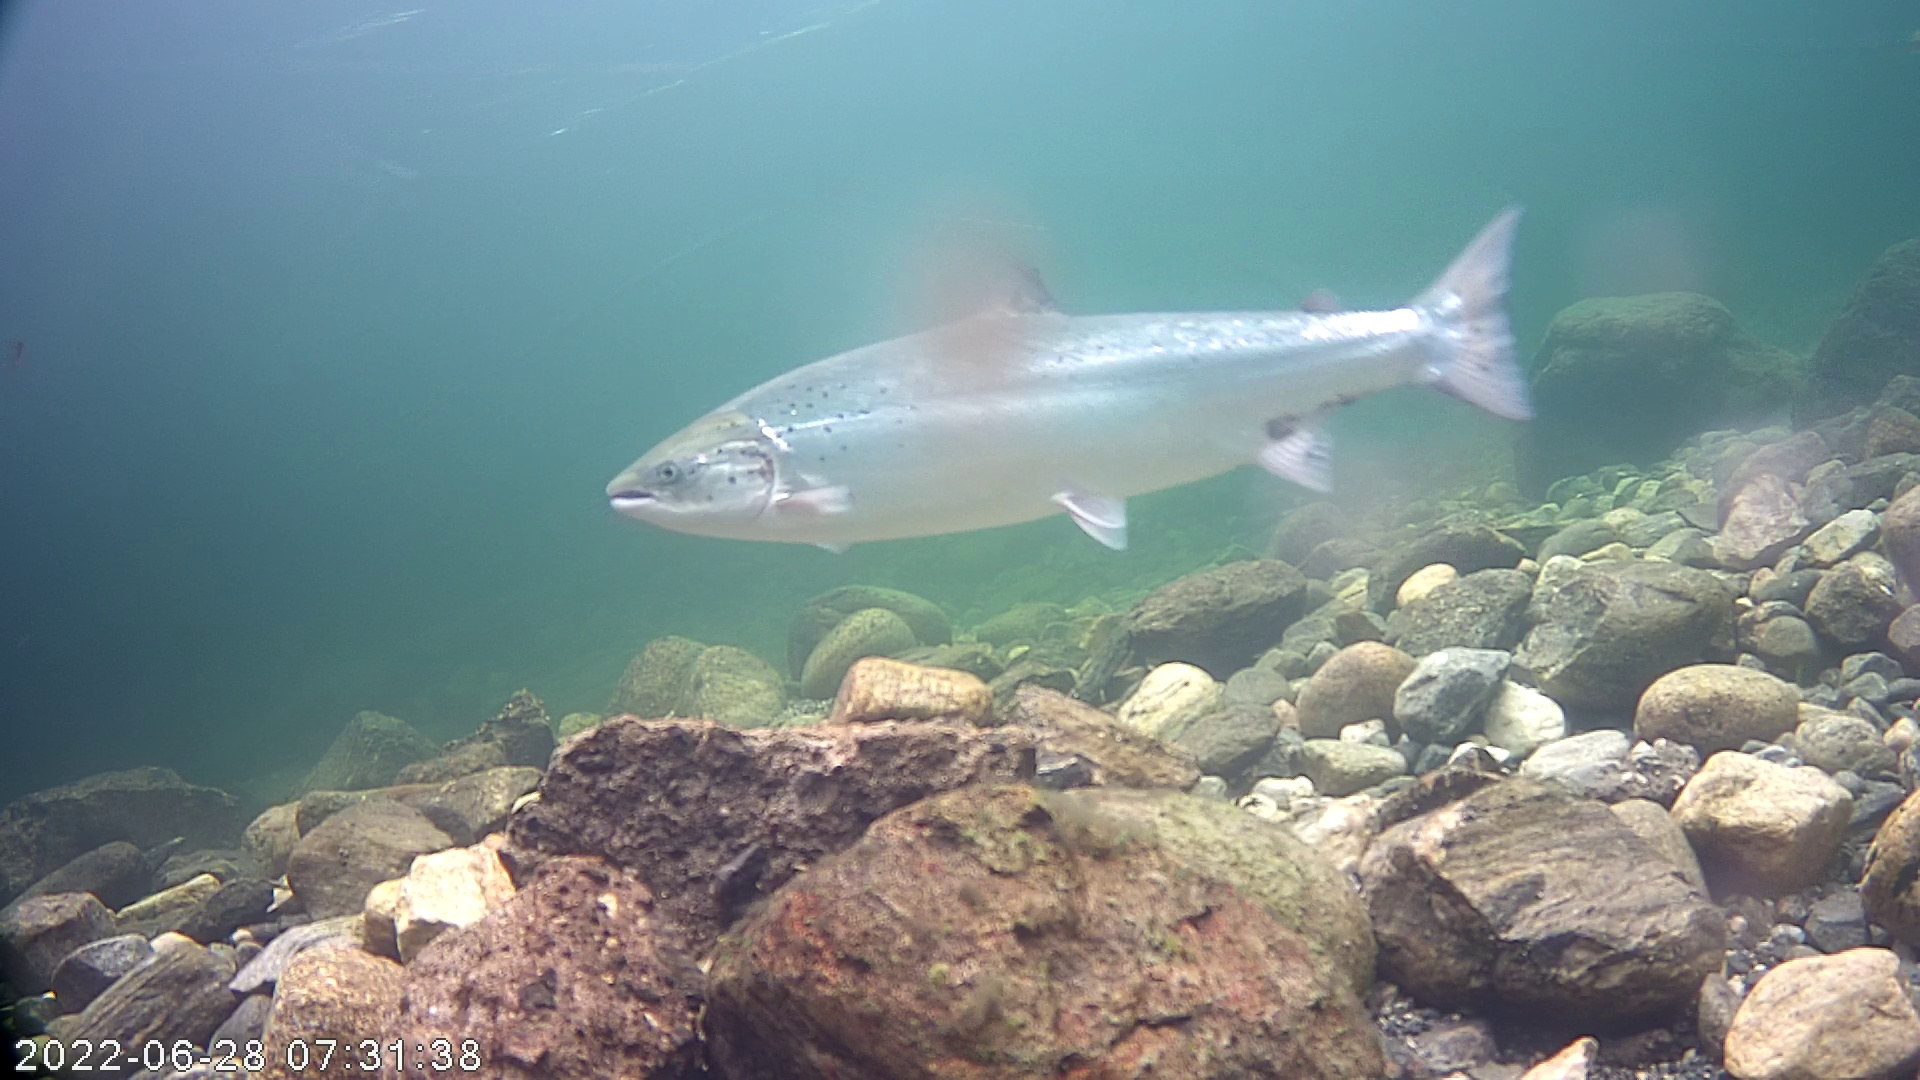salmon: (582, 123, 1578, 620)
